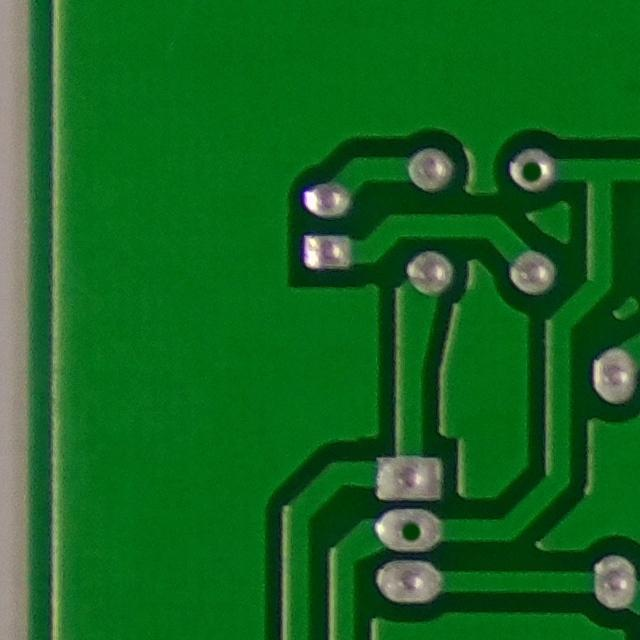missing_hole: (504, 146, 562, 201), (382, 506, 438, 555)
